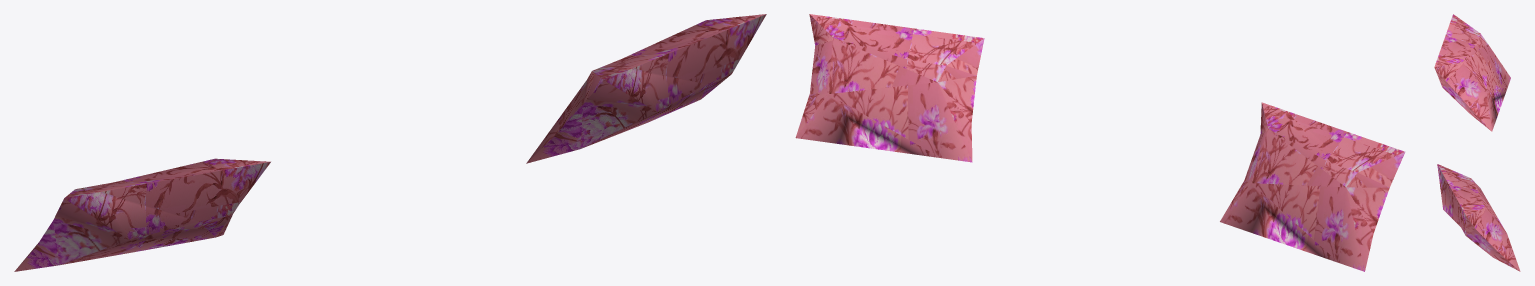
File: sofapillow.obj
The picture shows the model from 3 angles, left to right: view 1: azimuth 30°, elevation 25°; view 2: azimuth 150°, elevation 25°; view 3: azimuth 270°, elevation 25°; orthographic projection. The views are drawn at different scales.
Visible parts, largest first — view 1: Mesh2 pillow_1_2 _______15_1 Model, Mesh1 pillow_1_1 _______15_1 Model; view 2: Mesh1 pillow_1_1 _______15_1 Model, Mesh2 pillow_1_2 _______15_1 Model; view 3: Mesh2 pillow_1_2 _______15_1 Model, Mesh1 pillow_1_1 _______15_1 Model.
Part boxes in pixels (bbox=[...]): Mesh2 pillow_1_2 _______15_1 Model: bbox=[14, 158, 270, 271]; Mesh1 pillow_1_1 _______15_1 Model: bbox=[526, 14, 766, 163]; Mesh1 pillow_1_1 _______15_1 Model: bbox=[795, 14, 984, 162]; Mesh2 pillow_1_2 _______15_1 Model: bbox=[1220, 102, 1405, 271]; Mesh2 pillow_1_2 _______15_1 Model: bbox=[1434, 14, 1510, 131]; Mesh1 pillow_1_1 _______15_1 Model: bbox=[1437, 164, 1520, 271].
Size of the model in its own units: 78.71 by 11.76 by 14.11.
Materials: 1 (1 with a texture image).
